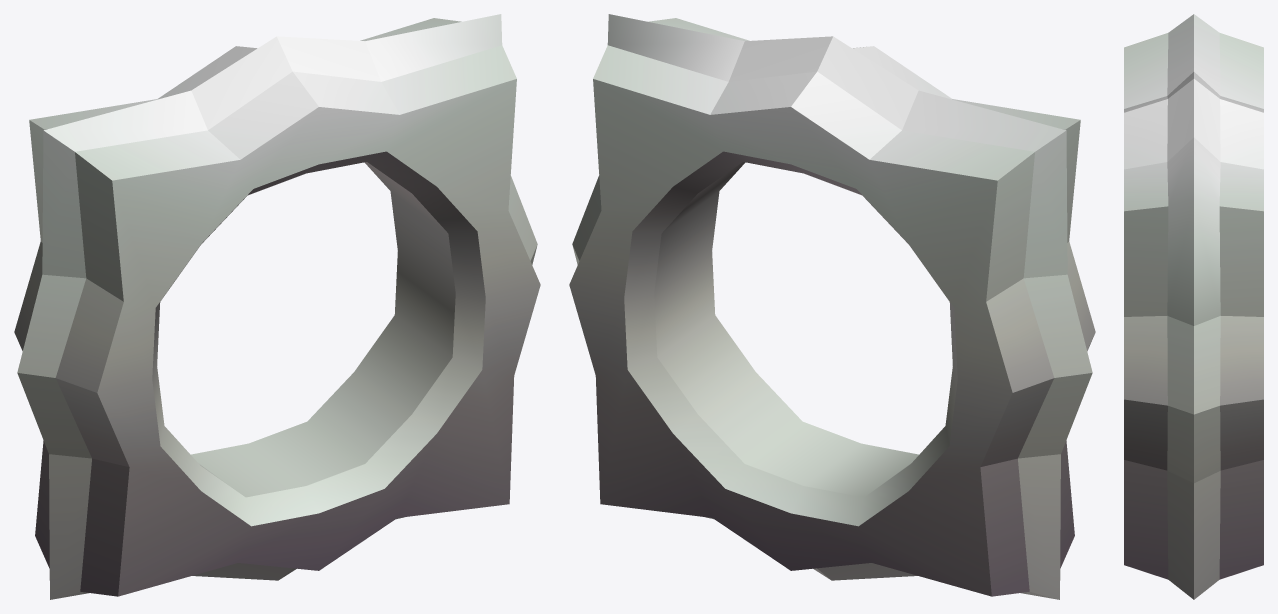
The model's file is Silver_Ring_04.glb.
The picture shows the model from 3 angles, left to right: view 1: azimuth 30°, elevation 25°; view 2: azimuth 150°, elevation 25°; view 3: azimuth 270°, elevation 25°; orthographic projection. The views are drawn at different scales.
Parts seen in each view (by area): view 1: Silver_Ring_04; view 2: Silver_Ring_04; view 3: Silver_Ring_04.
Part boxes in pixels (x1,y1,x2,y2): Silver_Ring_04: (14, 14, 540, 599); Silver_Ring_04: (569, 14, 1095, 599); Silver_Ring_04: (1124, 14, 1263, 599).
Bounding box in the file's own units: 0.5345 × 0.5345 × 0.1478.
Materials: 1 (1 with a texture image).
